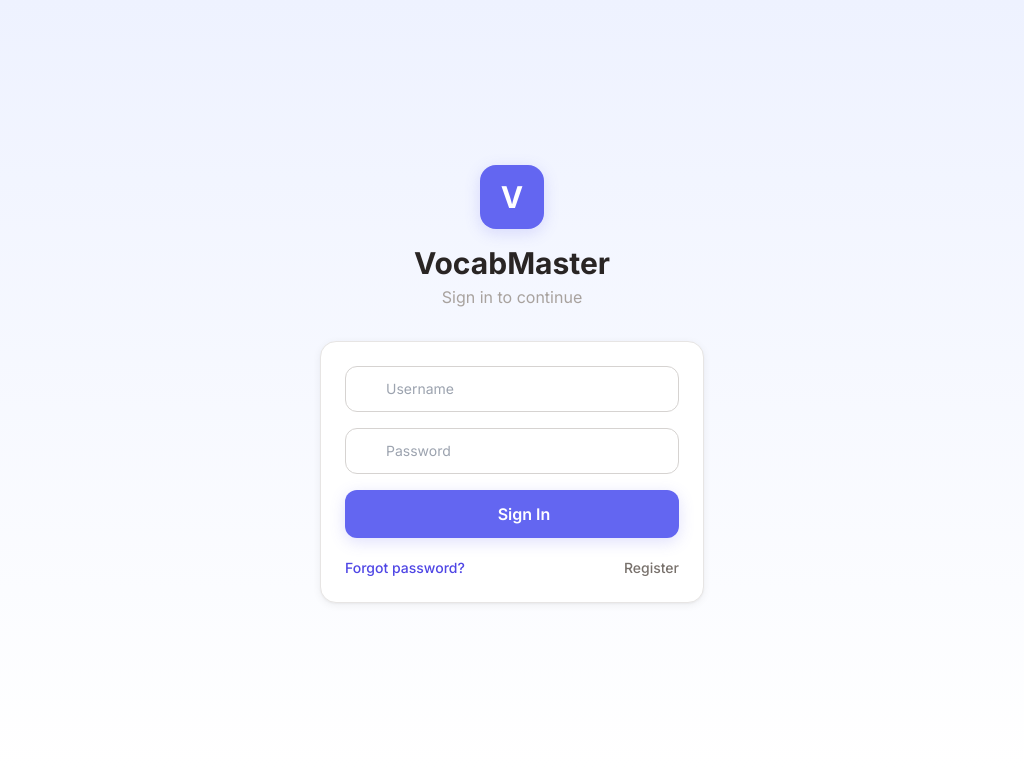
Test case: Login › login form › shows error on failed login
The image size is (1024, 768).
Type "testuser" into the field with placeholder "Username" at (512, 389), box [345,366,679,412]
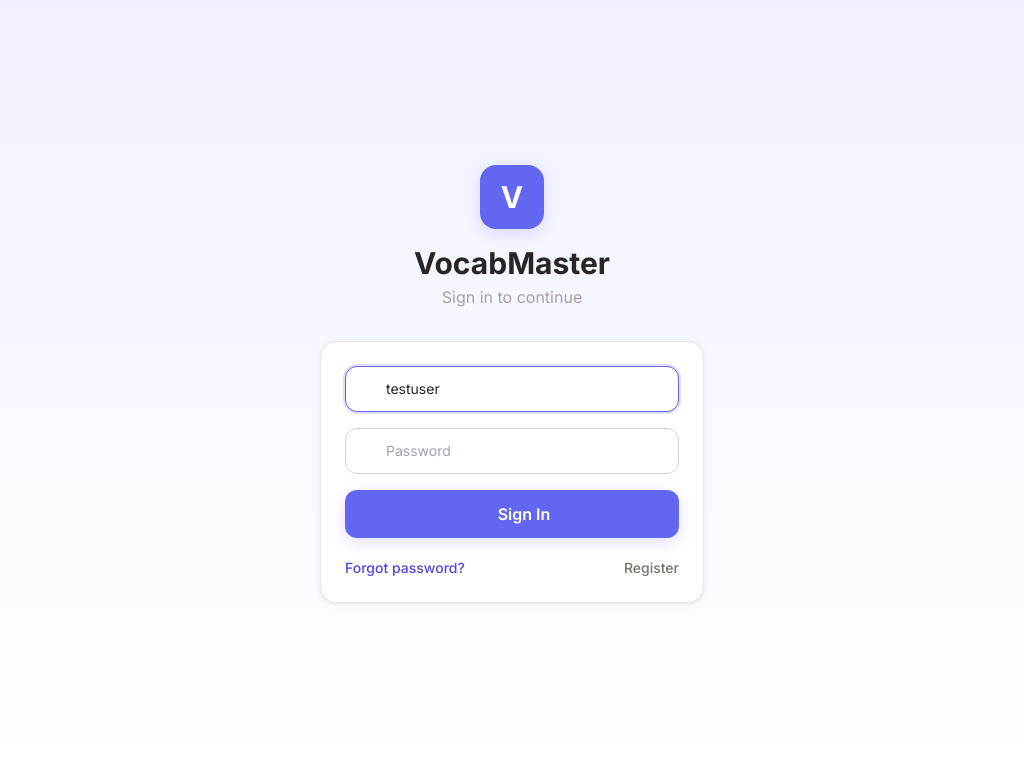
Type "wrong" into the password field with placeholder "Password" at (512, 451), box [345,428,679,474]
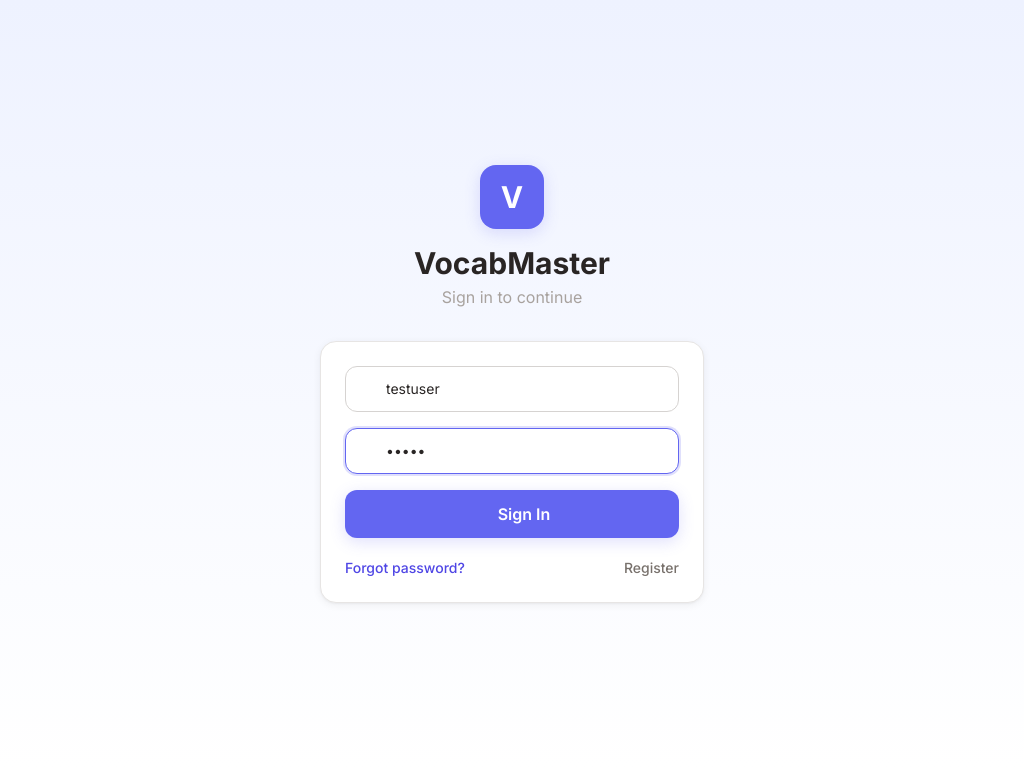
Click the button "Sign In" at (512, 514), box [345,490,679,538]
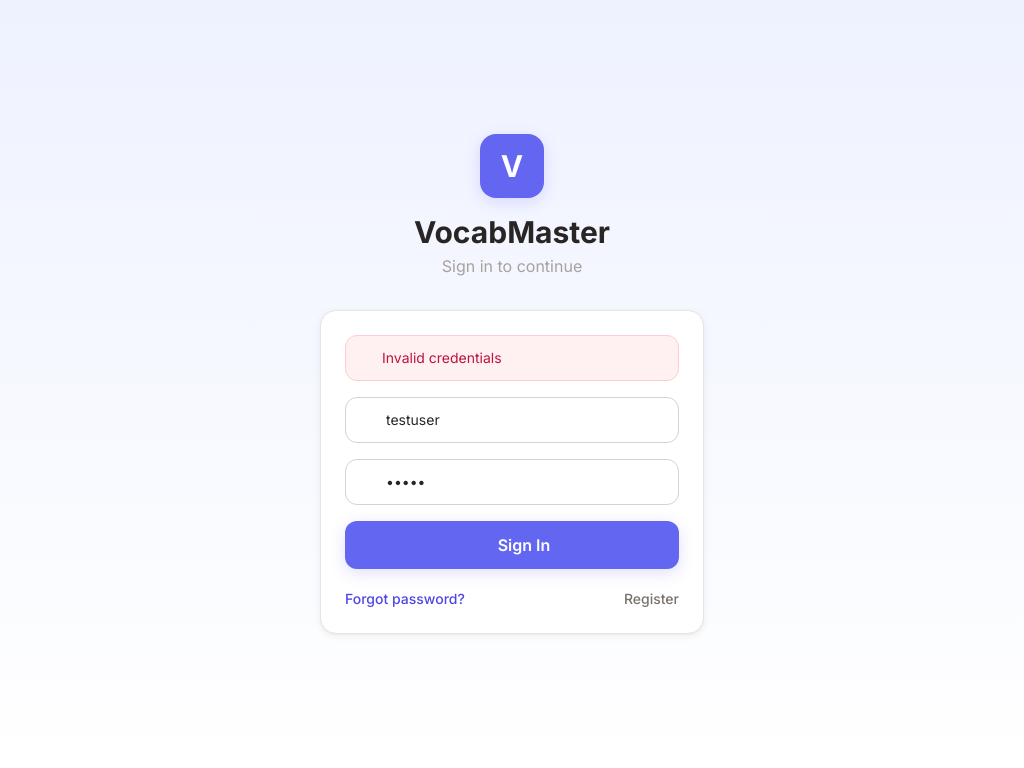
Check: the text "Invalid credentials" is shown, box [382,348,502,368]
